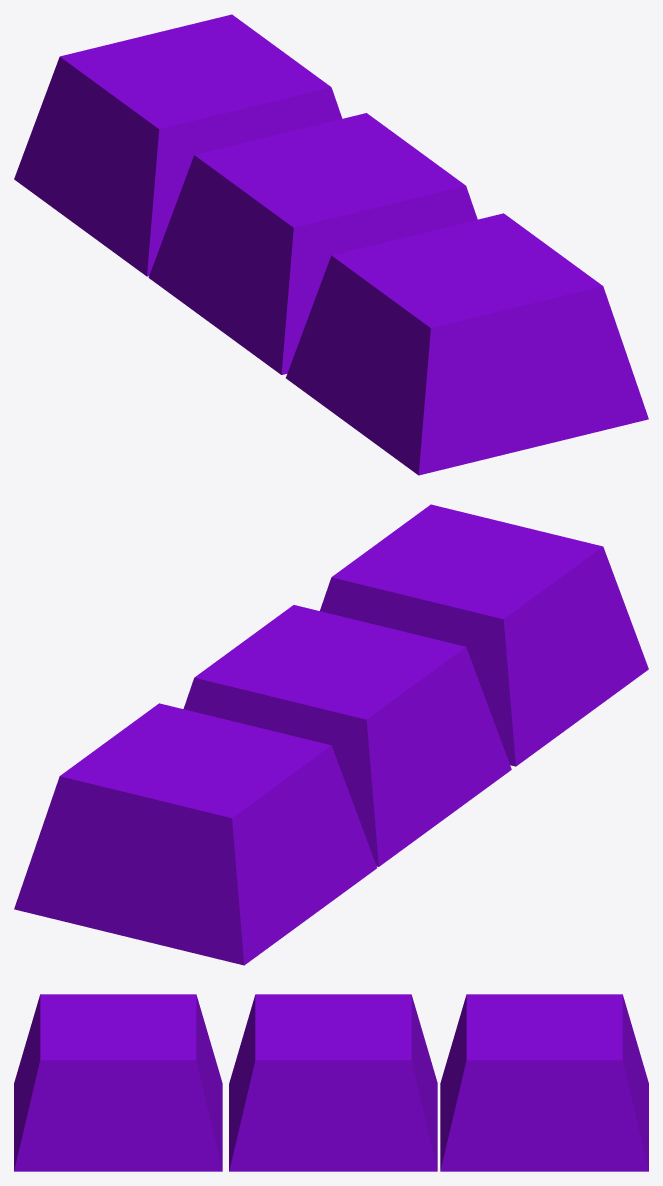
The model's file is Vertical3x1_Purple_low poly.fbx.
3 renders of one model, top to bottom at view 1: azimuth 30°, elevation 25°; view 2: azimuth 150°, elevation 25°; view 3: azimuth 270°, elevation 25°, orthographic. The views are drawn at different scales.
Parts seen in each view (by area): view 1: Cube.054; view 2: Cube.054; view 3: Cube.054.
Boxes of the visible parts, bbox=[...] form: Cube.054: bbox=[14, 14, 648, 475]; Cube.054: bbox=[14, 504, 648, 965]; Cube.054: bbox=[14, 994, 648, 1171].
Bounding box in the file's own units: 41.45 × 7.23 × 13.62.
